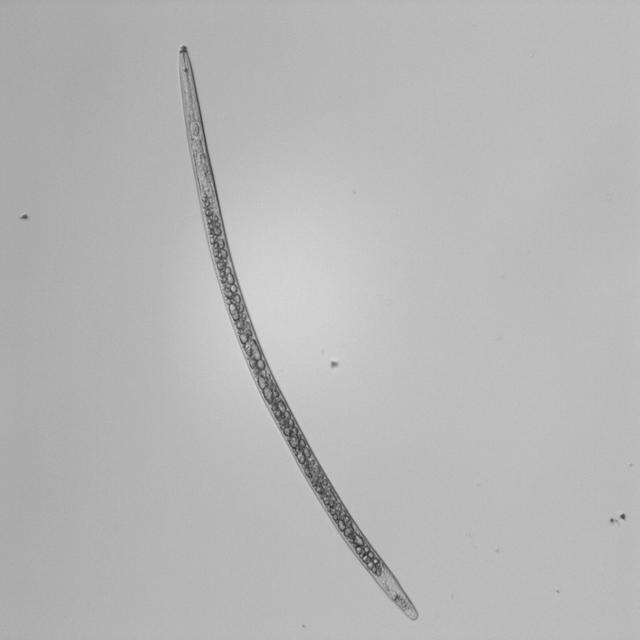Pratylenchus: (162, 38, 422, 624)
